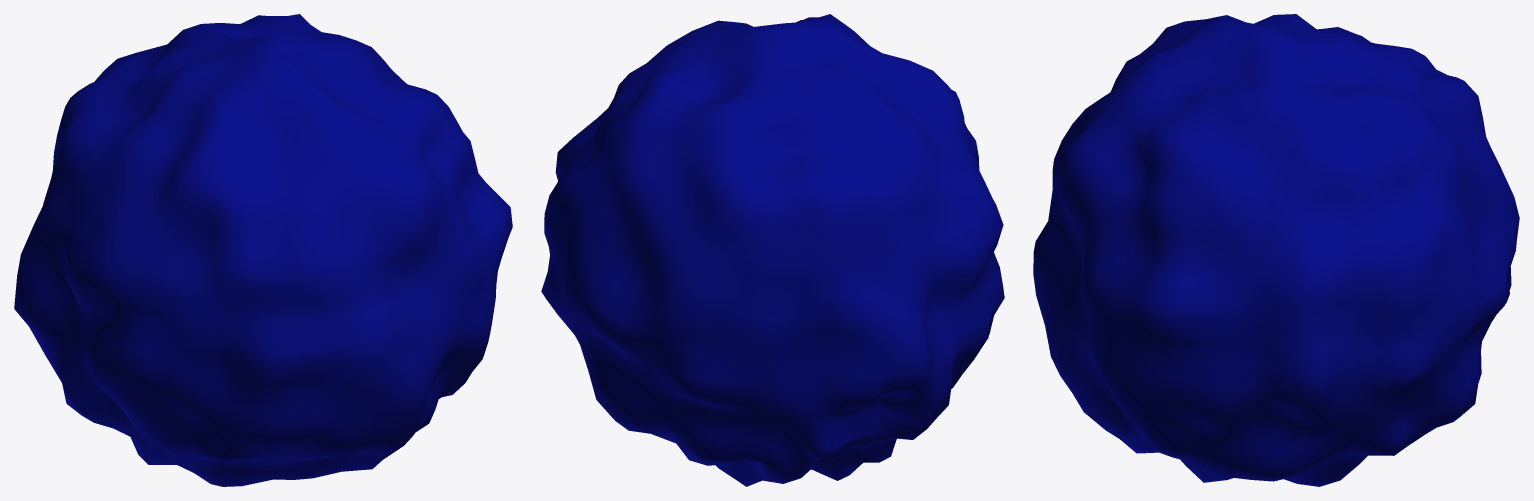
Rendered from T_Cell.fbx.
3 views of the same model, side by side, from view 1: azimuth 30°, elevation 25°; view 2: azimuth 150°, elevation 25°; view 3: azimuth 270°, elevation 25° (orthographic). The views are drawn at different scales.
Parts seen in each view (by area): view 1: T_Cell; view 2: T_Cell; view 3: T_Cell.
Part boxes in pixels (x1,y1,x2,y2): T_Cell: [14, 14, 512, 486]; T_Cell: [541, 14, 1004, 486]; T_Cell: [1033, 14, 1519, 486].
Bounding box in the file's own units: 1.75 × 1.77 × 1.78.
